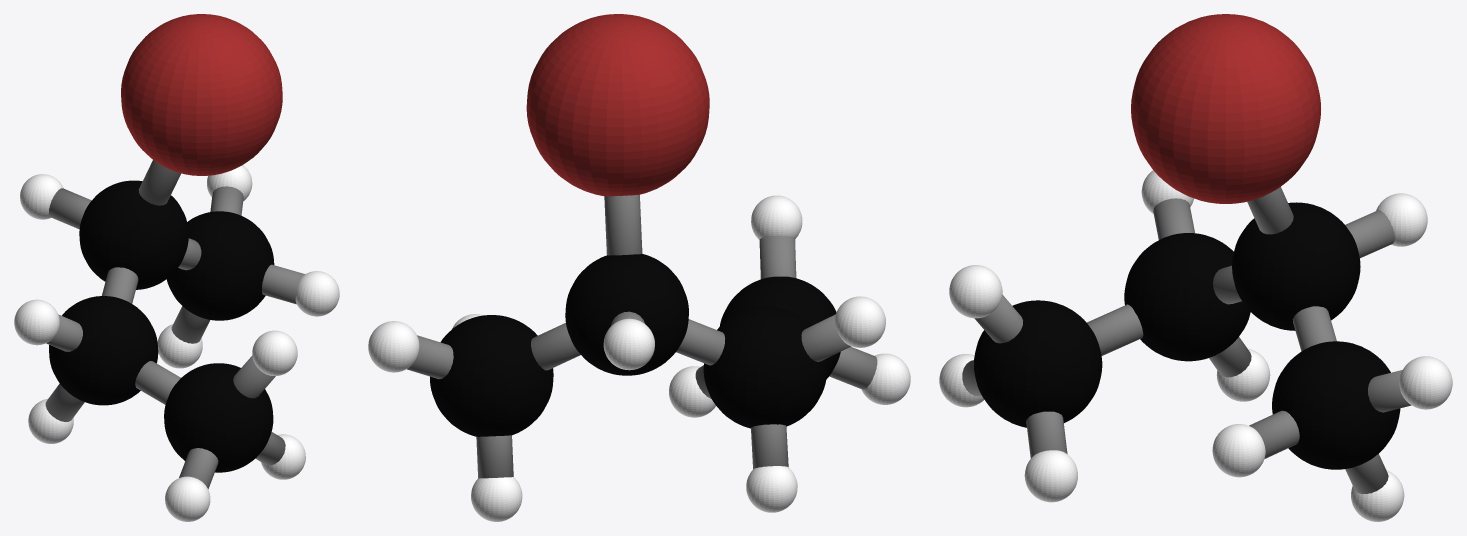
File: BROMOBUTANO.obj
3 renders of one model, left to right at view 1: azimuth 30°, elevation 25°; view 2: azimuth 150°, elevation 25°; view 3: azimuth 270°, elevation 25°, orthographic. The views are drawn at different scales.
Visible parts, largest first — view 1: Carbon_ball_Sphere.002, Bromine_ball_Sphere.001, Hydrogen_ball_Sphere, Stick_Cylinder.001_Cylinder.001, Stick_Cylinder.005_Cylinder.005, Stick_Cylinder.008_Cylinder.008, Stick_Cylinder_Cylinder, Stick_Cylinder.003_Cylinder.003, Stick_Cylinder.004_Cylinder.004, Stick_Cylinder.007_Cylinder.007, Stick_Cylinder.010_Cylinder.010, Stick_Cylinder.012_Cylinder.012 (+4 smaller); view 2: Carbon_ball_Sphere.002, Bromine_ball_Sphere.001, Hydrogen_ball_Sphere, Stick_Cylinder.001_Cylinder.001, Stick_Cylinder.010_Cylinder.010, Stick_Cylinder.012_Cylinder.012, Stick_Cylinder.004_Cylinder.004, Stick_Cylinder.006_Cylinder.006, Stick_Cylinder.007_Cylinder.007, Stick_Cylinder.003_Cylinder.003, Stick_Cylinder.011_Cylinder.011, Stick_Cylinder.009_Cylinder.009; view 3: Carbon_ball_Sphere.002, Bromine_ball_Sphere.001, Hydrogen_ball_Sphere, Stick_Cylinder.005_Cylinder.005, Stick_Cylinder.002_Cylinder.002, Stick_Cylinder_Cylinder, Stick_Cylinder.001_Cylinder.001, Stick_Cylinder.008_Cylinder.008, Stick_Cylinder.006_Cylinder.006, Stick_Cylinder.011_Cylinder.011, Stick_Cylinder.004_Cylinder.004, Stick_Cylinder.009_Cylinder.009 (+3 smaller).
Boxes of the visible parts, <box> form: Carbon_ball_Sphere.002: <box>49,180,274,472</box>; Bromine_ball_Sphere.001: <box>121,14,282,175</box>; Hydrogen_ball_Sphere: <box>14,165,339,521</box>; Stick_Cylinder.001_Cylinder.001: <box>138,160,181,205</box>; Stick_Cylinder.005_Cylinder.005: <box>135,361,180,404</box>; Stick_Cylinder.008_Cylinder.008: <box>261,264,304,304</box>; Stick_Cylinder_Cylinder: <box>49,188,91,229</box>; Stick_Cylinder.003_Cylinder.003: <box>179,448,218,489</box>; Stick_Cylinder.004_Cylinder.004: <box>233,355,275,398</box>; Stick_Cylinder.007_Cylinder.007: <box>102,267,138,303</box>; Stick_Cylinder.010_Cylinder.010: <box>171,306,210,343</box>; Stick_Cylinder.012_Cylinder.012: <box>45,383,84,421</box>; Carbon_ball_Sphere.002: <box>430,254,840,436</box>; Bromine_ball_Sphere.001: <box>526,14,709,196</box>; Hydrogen_ball_Sphere: <box>368,195,910,521</box>; Stick_Cylinder.001_Cylinder.001: <box>604,194,642,255</box>; Stick_Cylinder.010_Cylinder.010: <box>476,435,513,478</box>; Stick_Cylinder.012_Cylinder.012: <box>751,424,788,468</box>; Stick_Cylinder.004_Cylinder.004: <box>759,235,796,279</box>; Stick_Cylinder.006_Cylinder.006: <box>531,323,580,370</box>; Stick_Cylinder.007_Cylinder.007: <box>676,319,725,365</box>; Stick_Cylinder.003_Cylinder.003: <box>829,347,877,389</box>; Stick_Cylinder.011_Cylinder.011: <box>801,314,850,361</box>; Stick_Cylinder.009_Cylinder.009: <box>407,335,453,379</box>; Carbon_ball_Sphere.002: <box>974,202,1400,469</box>; Bromine_ball_Sphere.001: <box>1131,14,1320,203</box>; Hydrogen_ball_Sphere: <box>939,170,1452,521</box>; Stick_Cylinder.005_Cylinder.005: <box>1087,304,1143,355</box>; Stick_Cylinder.002_Cylinder.002: <box>1026,411,1067,458</box>; Stick_Cylinder_Cylinder: <box>1345,210,1394,258</box>; Stick_Cylinder.001_Cylinder.001: <box>1247,187,1293,234</box>; Stick_Cylinder.008_Cylinder.008: <box>1249,410,1299,458</box>; Stick_Cylinder.006_Cylinder.006: <box>1292,306,1336,351</box>; Stick_Cylinder.011_Cylinder.011: <box>1153,198,1194,239</box>; Stick_Cylinder.004_Cylinder.004: <box>974,294,1022,343</box>; Stick_Cylinder.009_Cylinder.009: <box>1368,370,1411,412</box>.
Size of the model in its own units: 5.1 by 5.63 by 5.54.
